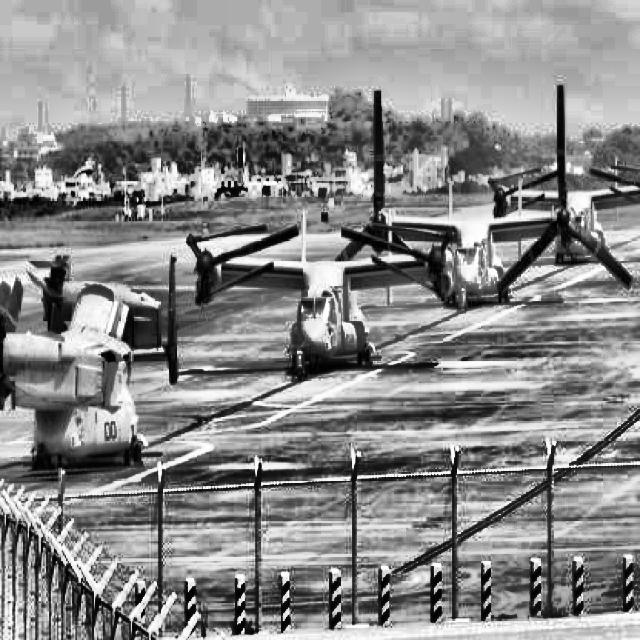V22: (336, 83, 632, 308), (187, 211, 456, 374), (0, 253, 178, 479), (486, 156, 640, 264)
